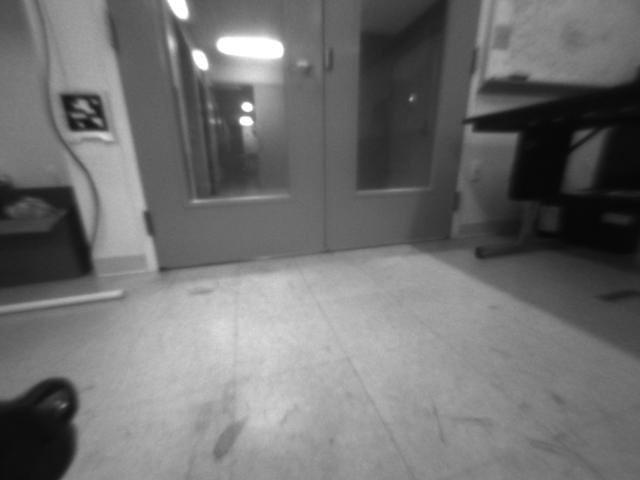door_handle: (284, 56, 316, 77)
